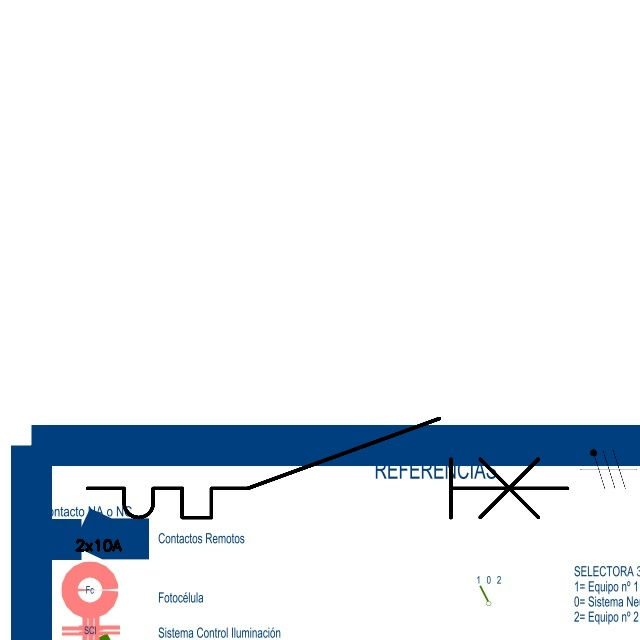interruptor_termomagnetico: (75, 406, 580, 530)
